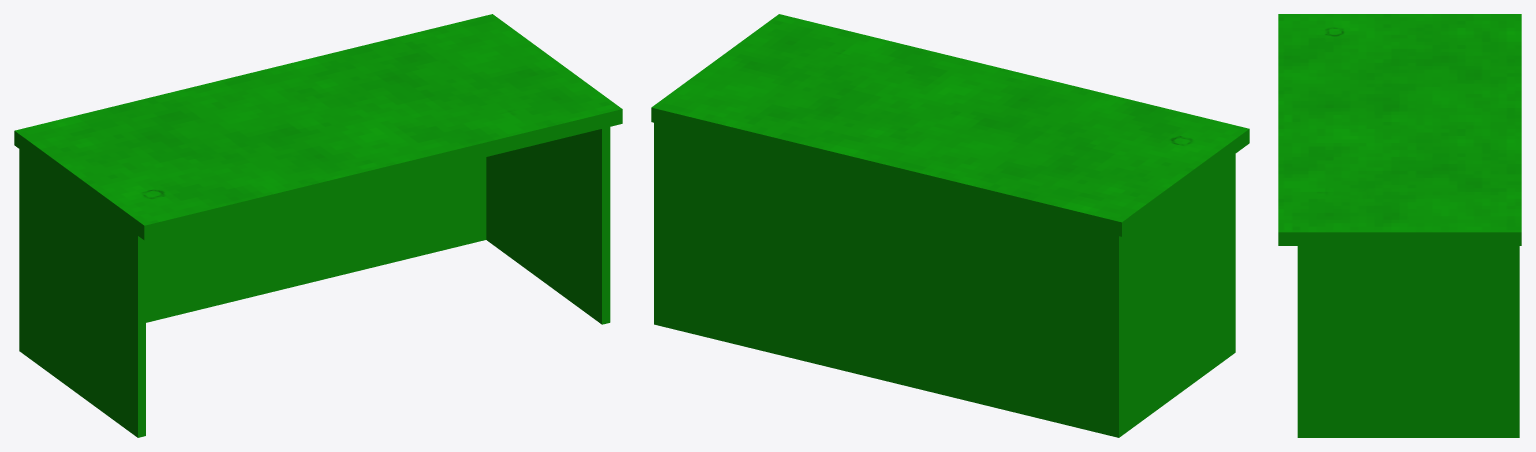
Rendered from SM_Desk.glb.
3 views of the same model, side by side, from view 1: azimuth 30°, elevation 25°; view 2: azimuth 150°, elevation 25°; view 3: azimuth 270°, elevation 25° (orthographic). The views are drawn at different scales.
Visible parts, largest first — view 1: SM_Desk; view 2: SM_Desk; view 3: SM_Desk.
Boxes of the visible parts, x1,y1,x2,y2 form: SM_Desk: (14,14,622,437); SM_Desk: (651,14,1249,437); SM_Desk: (1278,14,1521,437).
Bounding box in the file's own units: 1.7 × 0.75 × 0.8.
1 material, 1 textured.
